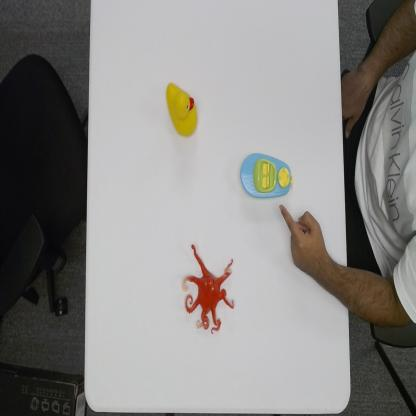Arm: (328, 250, 404, 328)
Boat: (239, 151, 294, 200)
Duck: (165, 80, 199, 139)
Hand: (278, 203, 328, 285)
Octopus: (182, 242, 236, 336)
